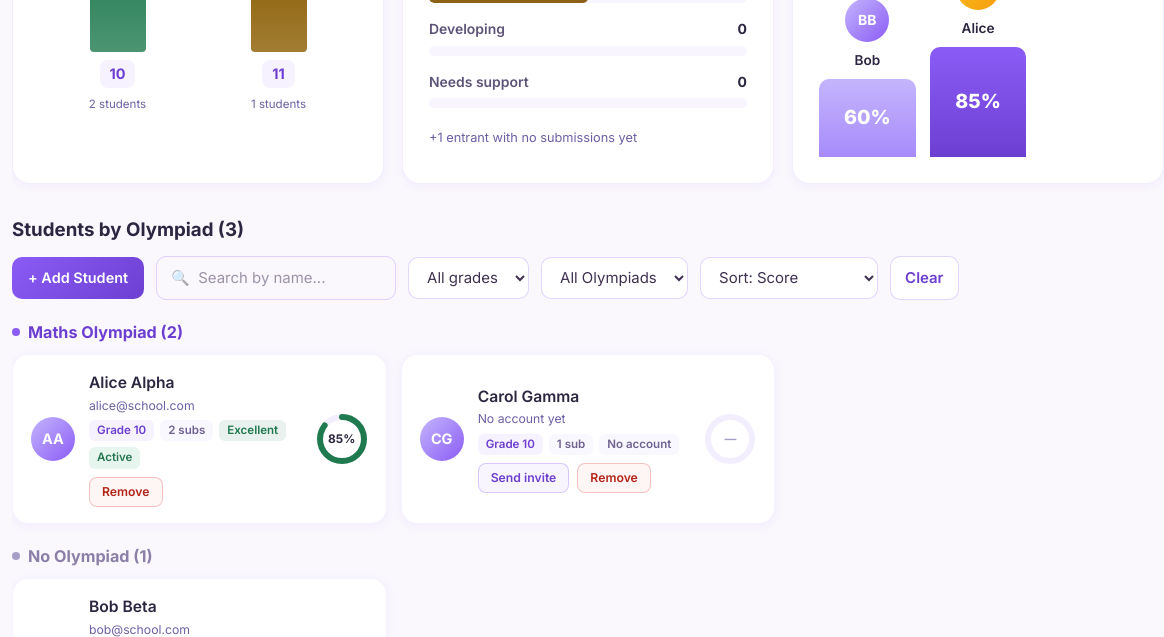
Scenario: School Dashboard Page › filters entrants by search term
(page scrolled)
Expected: the text "Alice Alpha" is shown, [89,373,175,392]
Type "bob" into the field with placeholder "🔍 Search by name...". click: [276, 278]
box: [156,256,396,300]
(page scrolled)
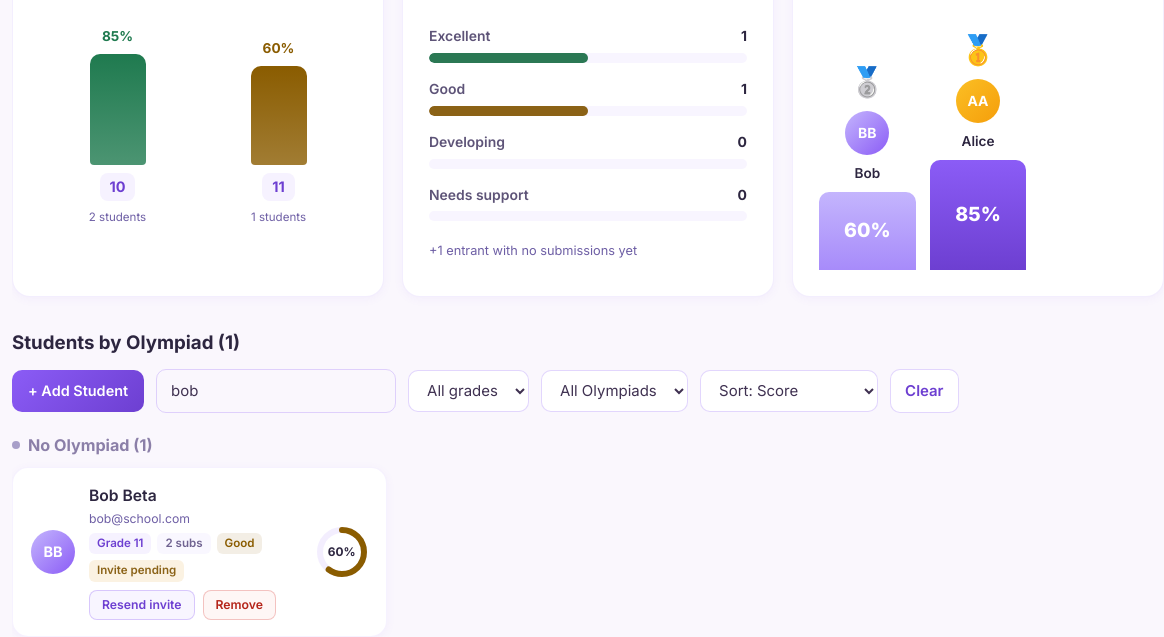
Expected: the text "Bob Beta" is shown, [89,486,157,505]
Expected: the text "Alice Alpha" is gone
